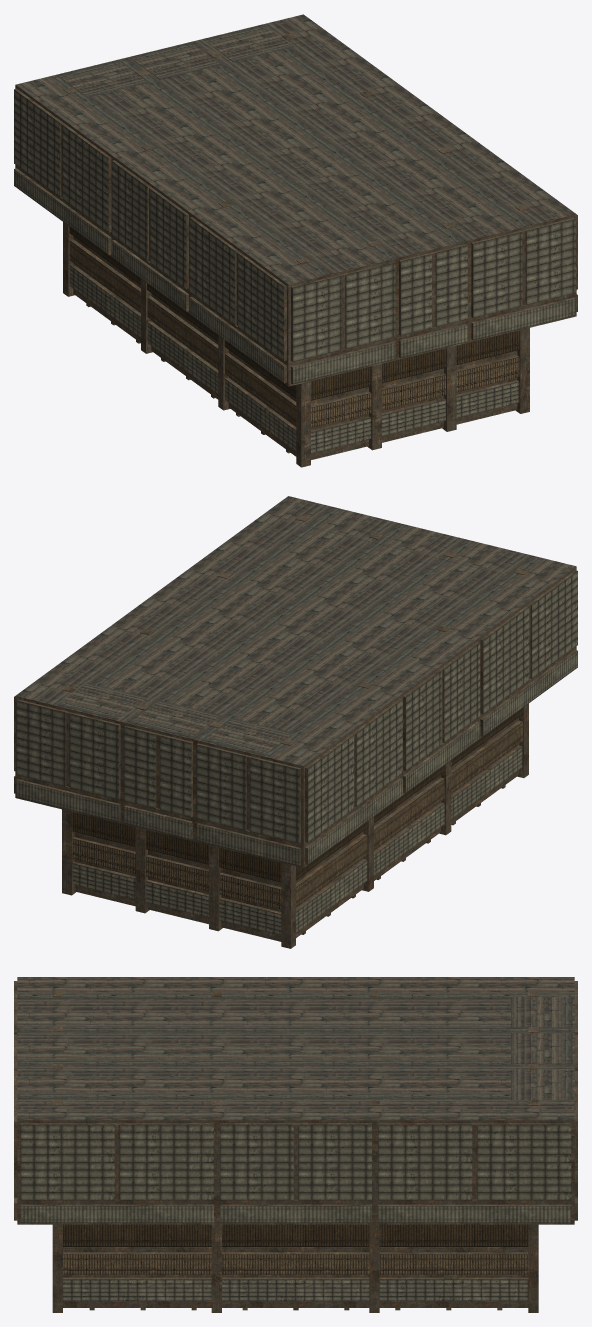
File: japan_dojo.glb
The picture shows the model from 3 angles, top to bottom: view 1: azimuth 30°, elevation 25°; view 2: azimuth 150°, elevation 25°; view 3: azimuth 270°, elevation 25°; orthographic projection. The views are drawn at different scales.
Parts seen in each view (by area): view 1: dojo.001, dojo.002, dojo.003; view 2: dojo.001, dojo.002, dojo.003; view 3: dojo.002, dojo.001, dojo.003.
Boxes of the visible parts, x1,y1,x2,y2 form: dojo.001: (16, 14, 575, 284); dojo.002: (14, 89, 575, 453); dojo.003: (14, 33, 577, 467); dojo.001: (15, 496, 575, 765); dojo.002: (16, 571, 577, 934); dojo.003: (14, 515, 577, 948); dojo.002: (20, 1124, 571, 1300); dojo.001: (17, 977, 574, 1120); dojo.003: (14, 981, 577, 1312).
Size of the model in its own units: 4.83 by 3.21 by 7.87.
3 materials, 3 textured.
